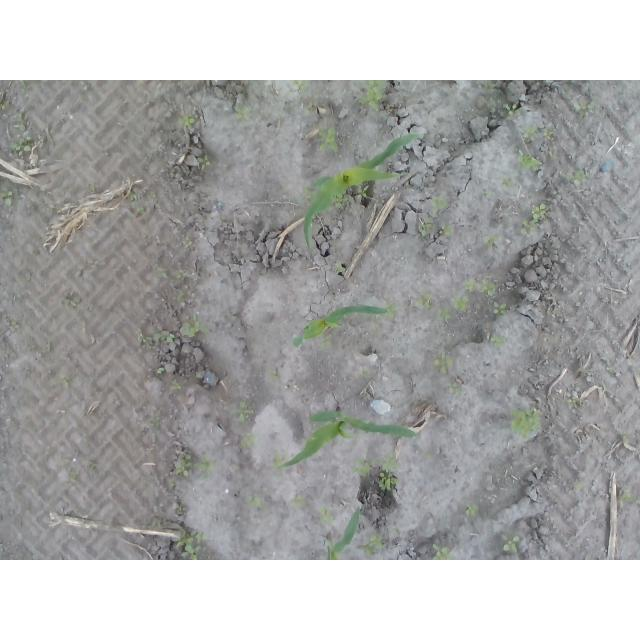Maize: (303, 132, 418, 248), (278, 405, 419, 471), (289, 304, 387, 353), (323, 504, 362, 560)
Weeds: (418, 190, 452, 240), (498, 406, 542, 439), (171, 528, 210, 560), (355, 80, 386, 113), (520, 201, 549, 236), (377, 454, 403, 491), (463, 274, 498, 301), (135, 329, 178, 350), (178, 312, 212, 338), (312, 124, 341, 153), (228, 399, 257, 424), (429, 349, 456, 375), (360, 534, 385, 558), (523, 126, 557, 143), (7, 136, 33, 158), (174, 450, 194, 478), (498, 533, 520, 556), (516, 152, 541, 172), (155, 266, 185, 282), (350, 458, 370, 479), (483, 231, 504, 251), (564, 168, 588, 185), (501, 100, 523, 118), (452, 294, 472, 312), (196, 455, 216, 473), (415, 289, 433, 309), (574, 96, 595, 113), (287, 81, 310, 96), (617, 489, 635, 508), (240, 431, 261, 447), (0, 186, 14, 208), (232, 107, 252, 122), (176, 113, 197, 127), (248, 494, 265, 511), (432, 544, 449, 561), (318, 505, 334, 523), (479, 81, 498, 96), (64, 294, 80, 311), (490, 300, 507, 316), (486, 334, 504, 349), (143, 415, 161, 430), (14, 109, 26, 131), (435, 307, 452, 322), (318, 335, 335, 350), (197, 153, 211, 171), (292, 494, 306, 511), (144, 517, 162, 530), (180, 232, 194, 248), (447, 381, 462, 395), (56, 375, 71, 389), (464, 503, 479, 517), (267, 366, 282, 380), (168, 377, 181, 392), (500, 175, 513, 189), (565, 391, 577, 406), (5, 320, 20, 332), (273, 454, 283, 470), (137, 206, 148, 219), (176, 505, 188, 516), (574, 483, 586, 493), (152, 366, 166, 374), (127, 190, 137, 200), (87, 463, 97, 473), (359, 367, 368, 377), (168, 480, 176, 489), (0, 102, 6, 112)
